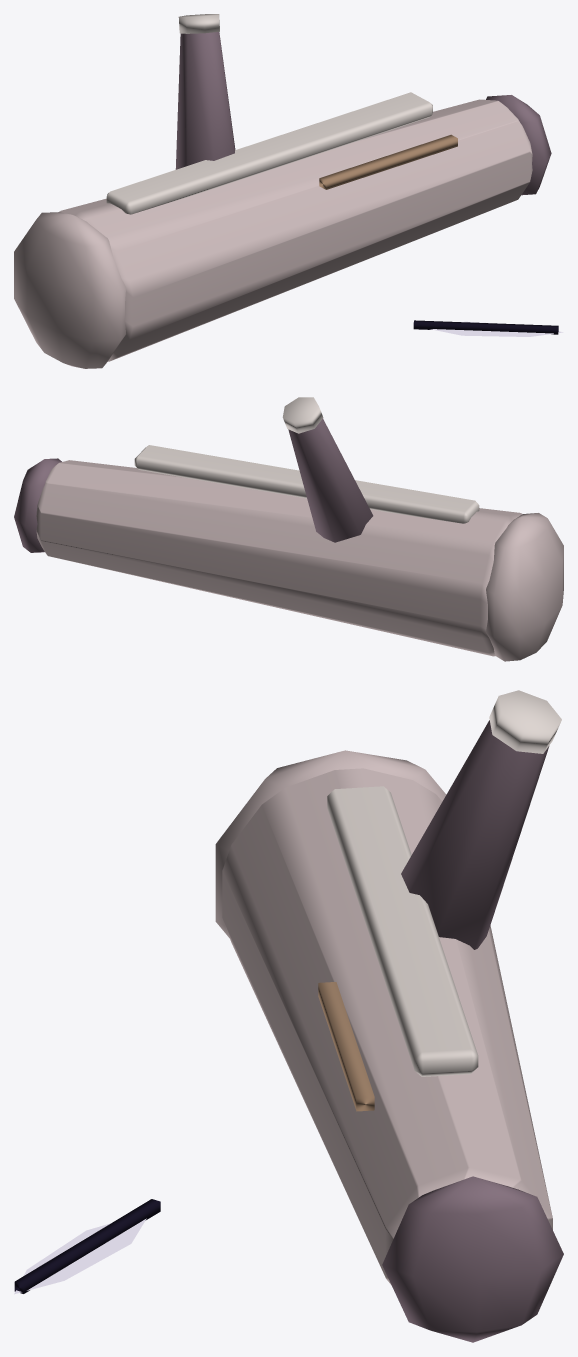
File: driftwood.glb
3 views of the same model, one above another, from view 1: azimuth 30°, elevation 25°; view 2: azimuth 150°, elevation 25°; view 3: azimuth 270°, elevation 25° (orthographic). The views are drawn at different scales.
Visible parts, largest first — view 1: Log; view 2: Log; view 3: Log.
Part boxes in pixels (x1,y1,x2,y2): Log: (14,14,563,368); Log: (14,397,563,661); Log: (14,690,563,1342).
Size of the model in its own units: 1.11 by 0.5381 by 0.5989.
